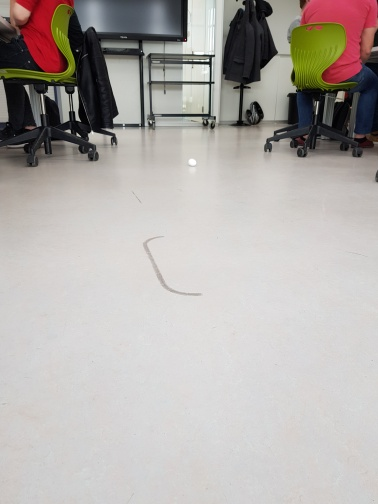egg: (186, 157, 200, 167)
